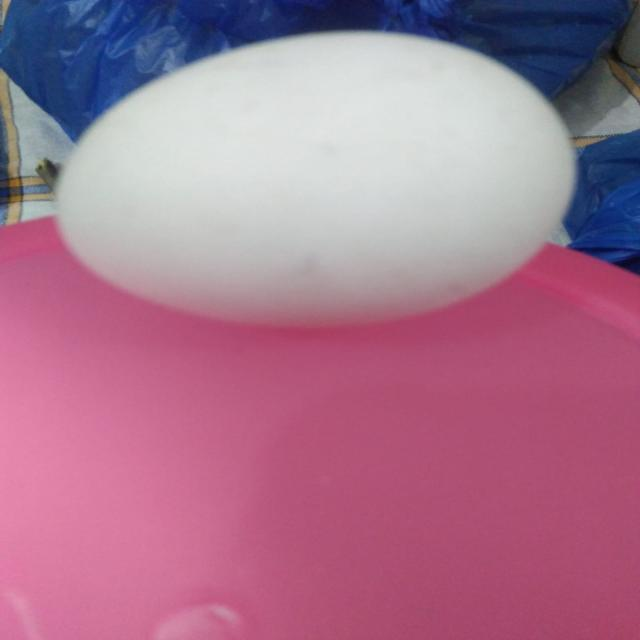Egg: (25, 27, 596, 338)
